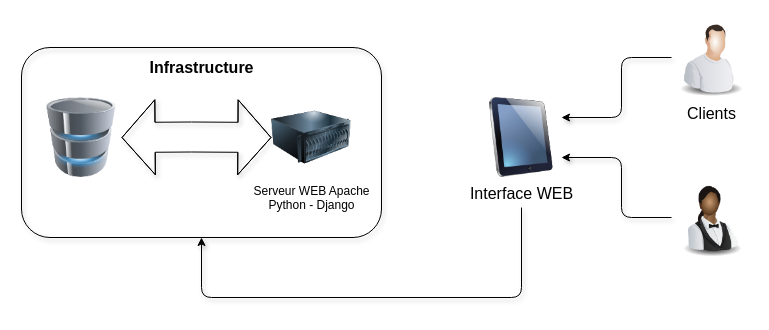
Image size: 769x330. Some labels were removed from this diagram. Each missing label, with the centre of its shape:
Base de données PostgreSQL: (x=81, y=137)
Employés: (x=711, y=217)
